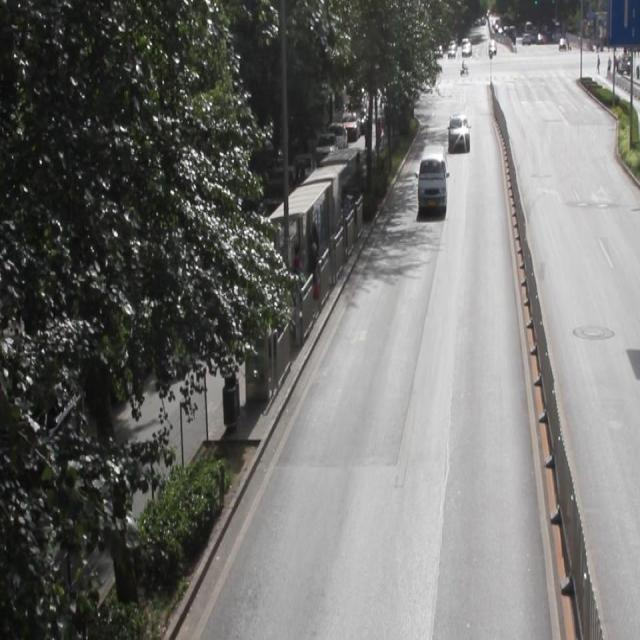car: (447, 113, 468, 149)
truck: (417, 142, 446, 205)
